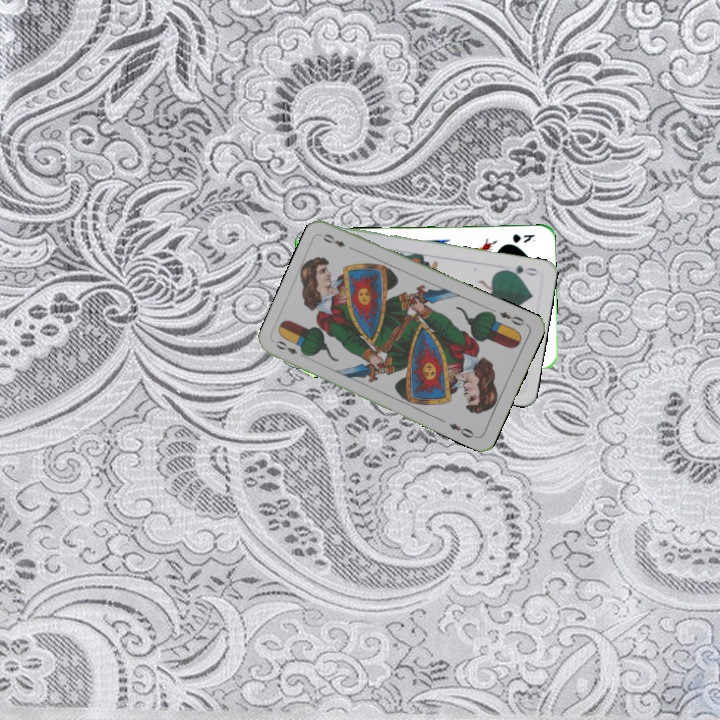EO: (271, 337, 309, 361), (495, 307, 530, 328)
GK: (509, 230, 538, 245)
GO: (500, 261, 540, 279)
